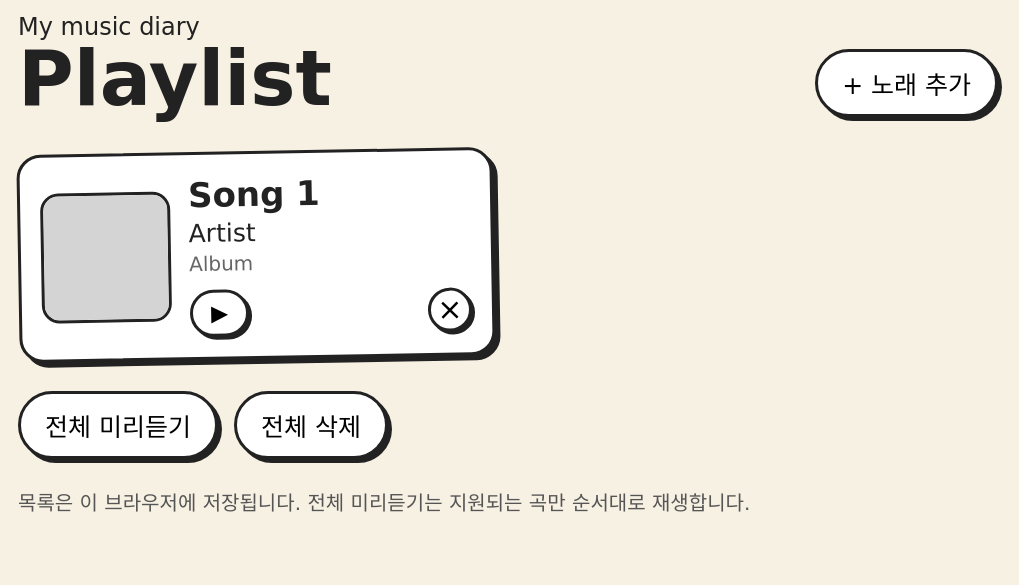
late play fulfillment does not restore stopped state
Click the button "전체 미리듣기": (118, 425) [18,391,218,459]
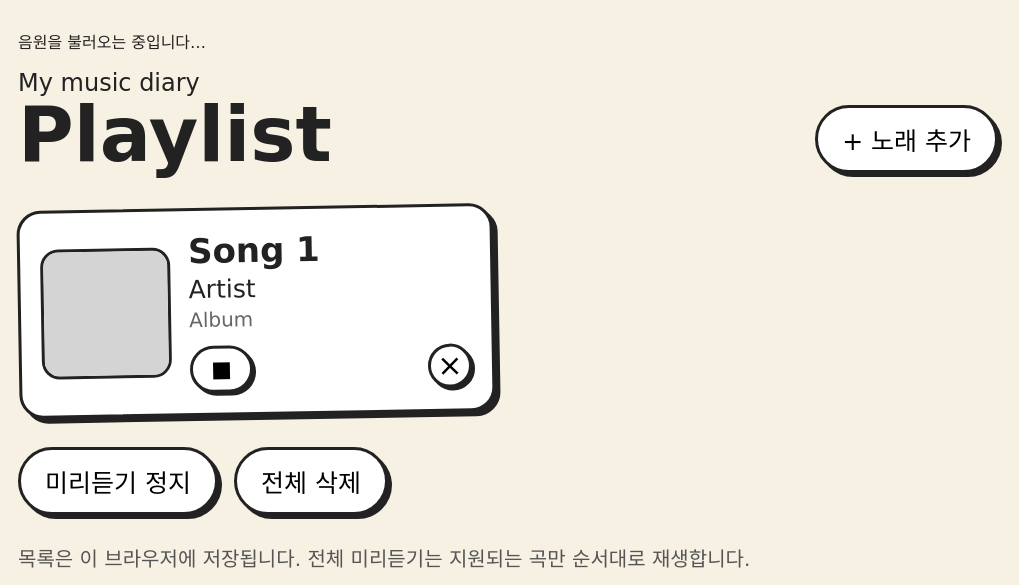
Click the button "미리듣기 정지": (118, 481) [18,447,218,515]
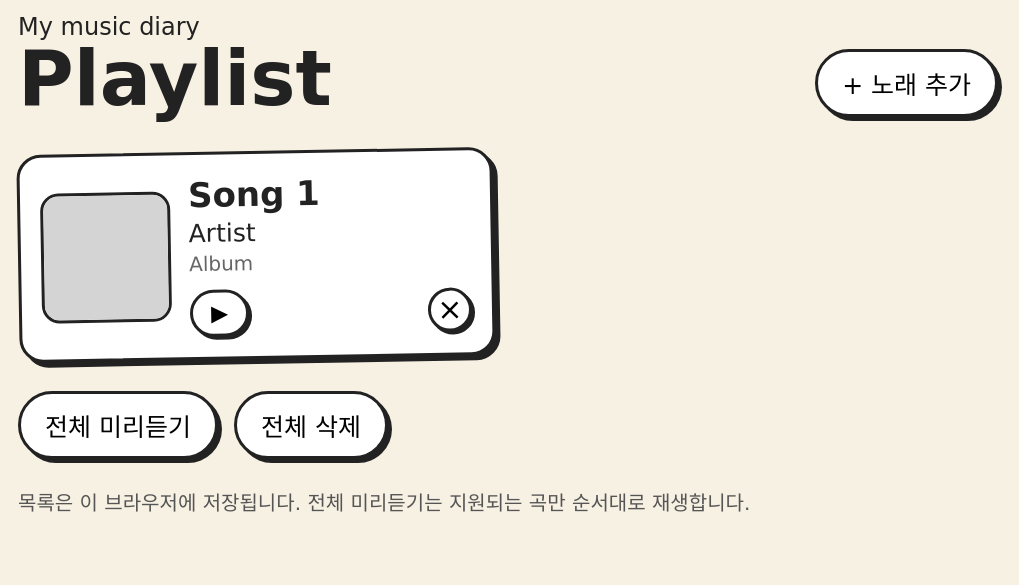
Result: the button "전체 미리듣기" is shown at [18,391,218,459]
